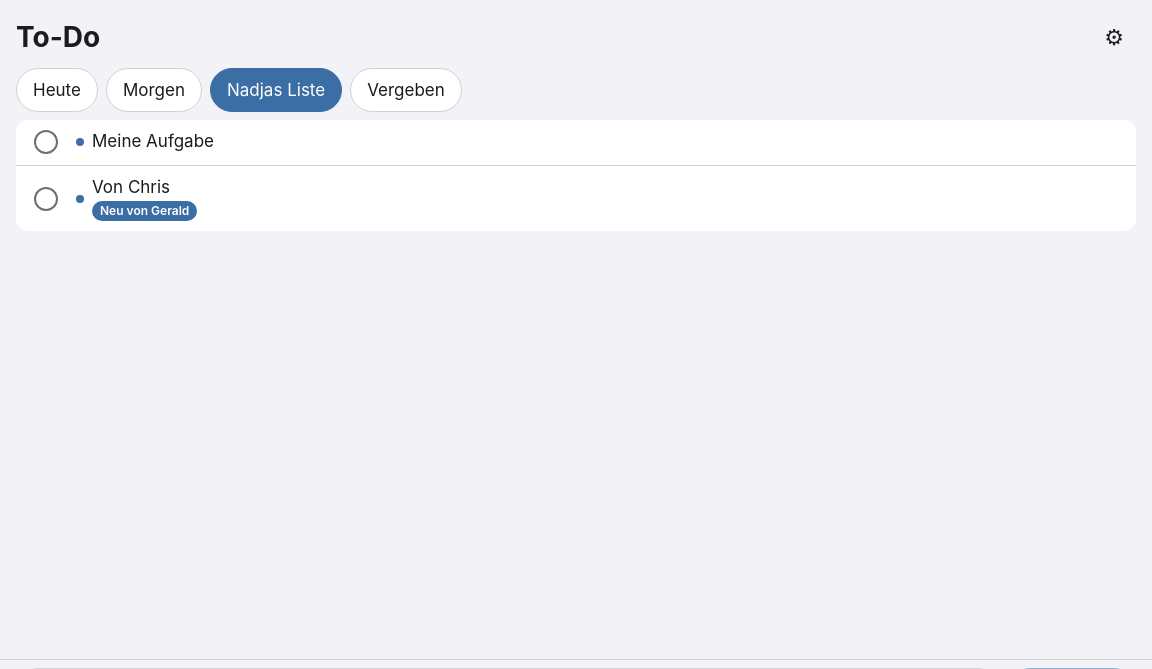
it: App with two people › marks a task the other person delegated to me and clears it once opened
The width and height of the screenshot is (1152, 669).
Check: the text "Neu von Gerald" is shown, box [92,201,197,221]
Click the button "Von Chris Neu von Gerald".
click(131, 187)  # box [92,166,1136,231]
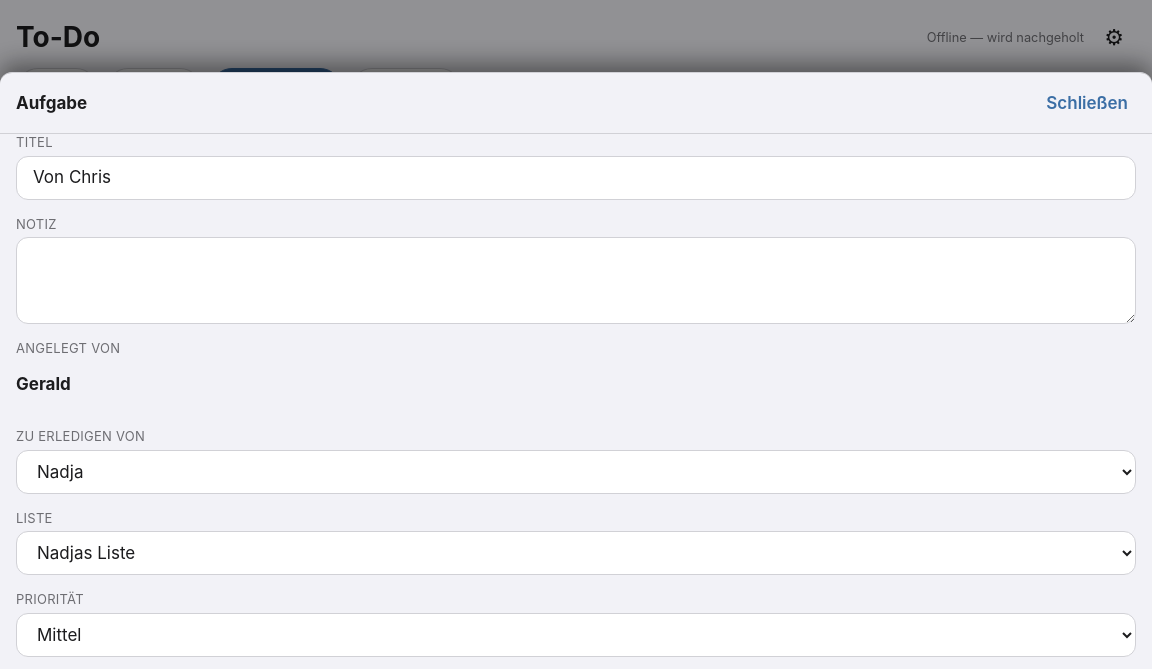
Check: the text "Neu von Gerald" is gone
